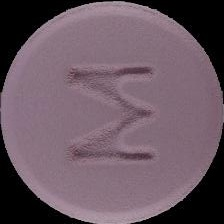53808-0819: (0, 0, 224, 224)
